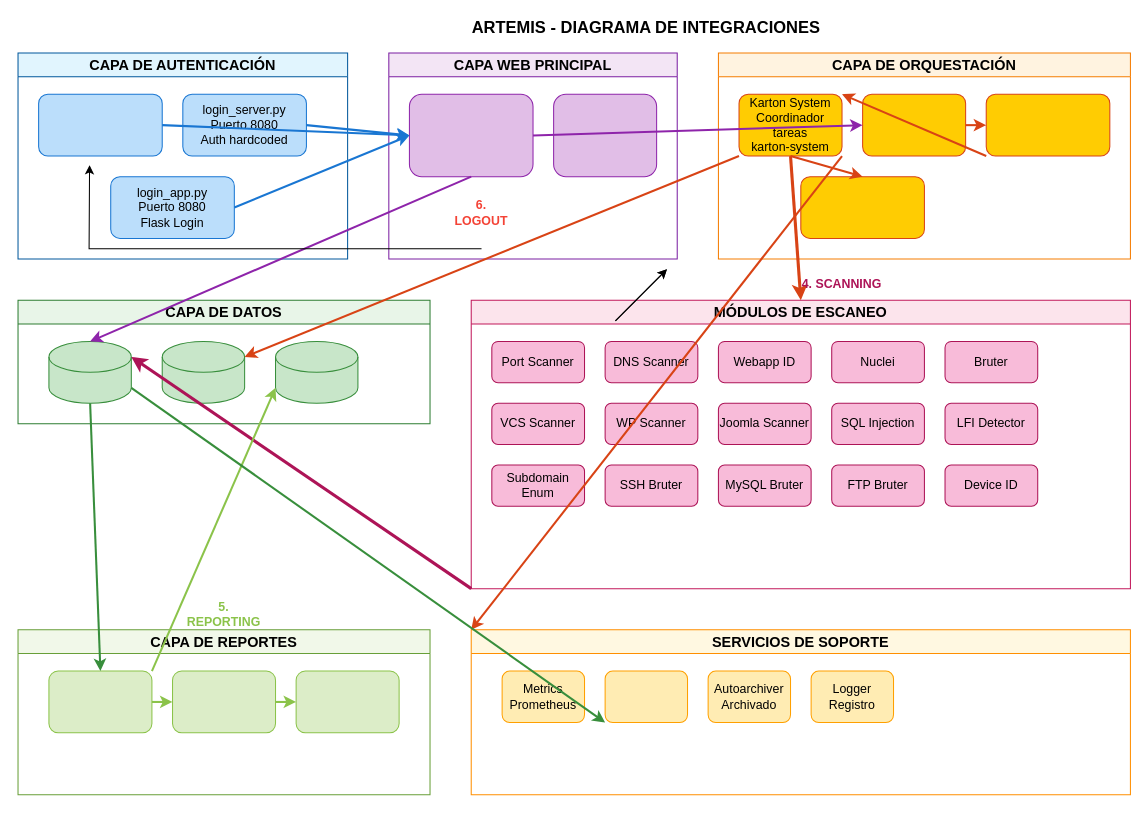
Some shapes in this 1148 by 813 pixel diagram are drawn without their labels. Each missing label, with the centre of its shape:
API REST /api/* FastAPI api.py: the point at 605,135
Autoreporter Generador reportes: the point at 100,701
Classifier Clasificador targets classifier.py: the point at 1047,124
Cleanup Limpieza: the point at 646,696
Export System Exportación: the point at 223,701
Karton Dashboard Monitoreo karton-dashboard: the point at 862,207
login_server_db.py Puerto 8090 Auth con BD SQLite: the point at 100,124
PostgreSQL BD Principal: the point at 89,371
Producer Creador tareas producer.py: the point at 914,124
Redis Cola tareas: the point at 203,371
S3Mock Almacenamiento: the point at 316,371
Templates Plantillas: the point at 347,701
Web Interface Puerto 5000 FastAPI + Jinja2 frontend.py: the point at 470,135
